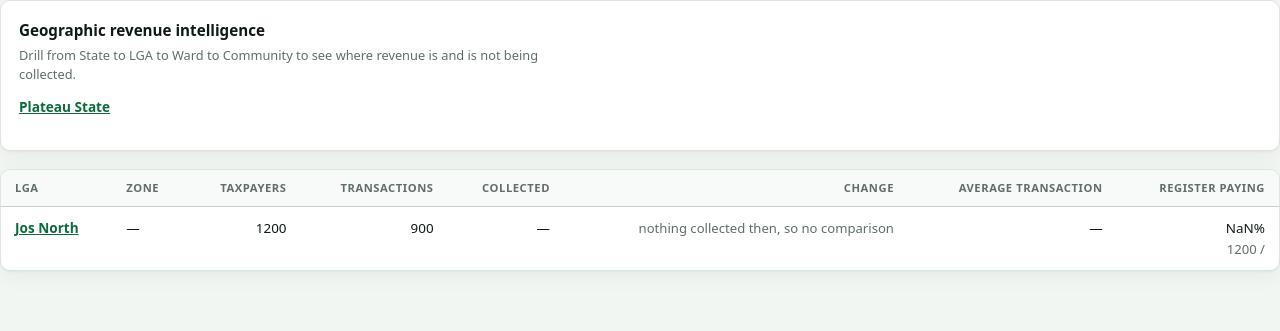
it: a drill-down that hits a failure › comes back when the officer goes back up
Click the button "Jos North": (47, 229) [15,218,79,239]
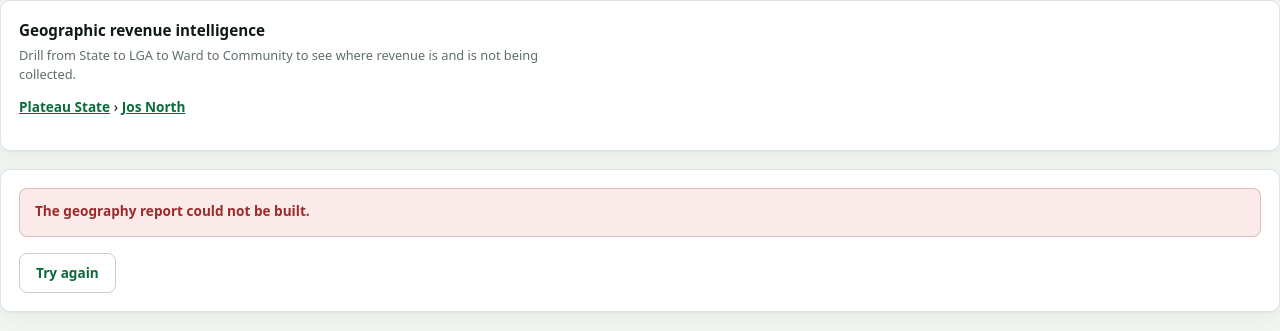
Result: the text "The geography report could not be built." is shown at [35,201,310,220]
Click the button "Plateau State": (64, 107) [19,97,110,118]
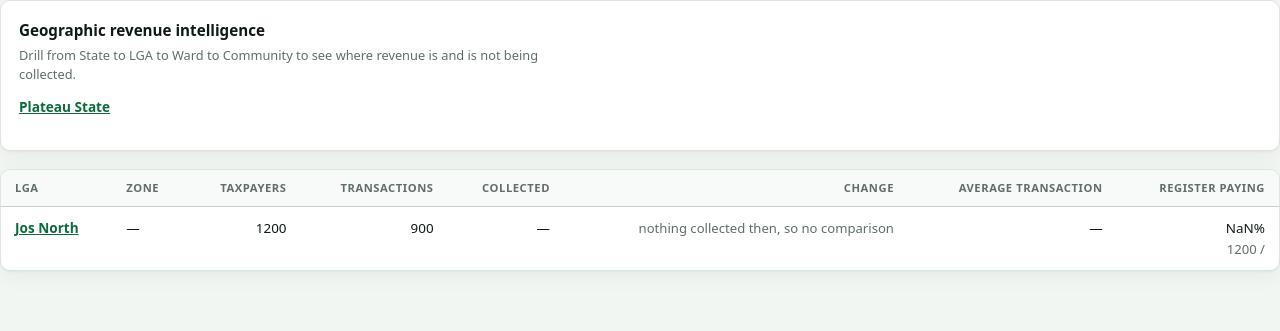
Expected: the button "Jos North" is shown, [15,218,79,239]
Result: the text "geography report could not be built" is gone
